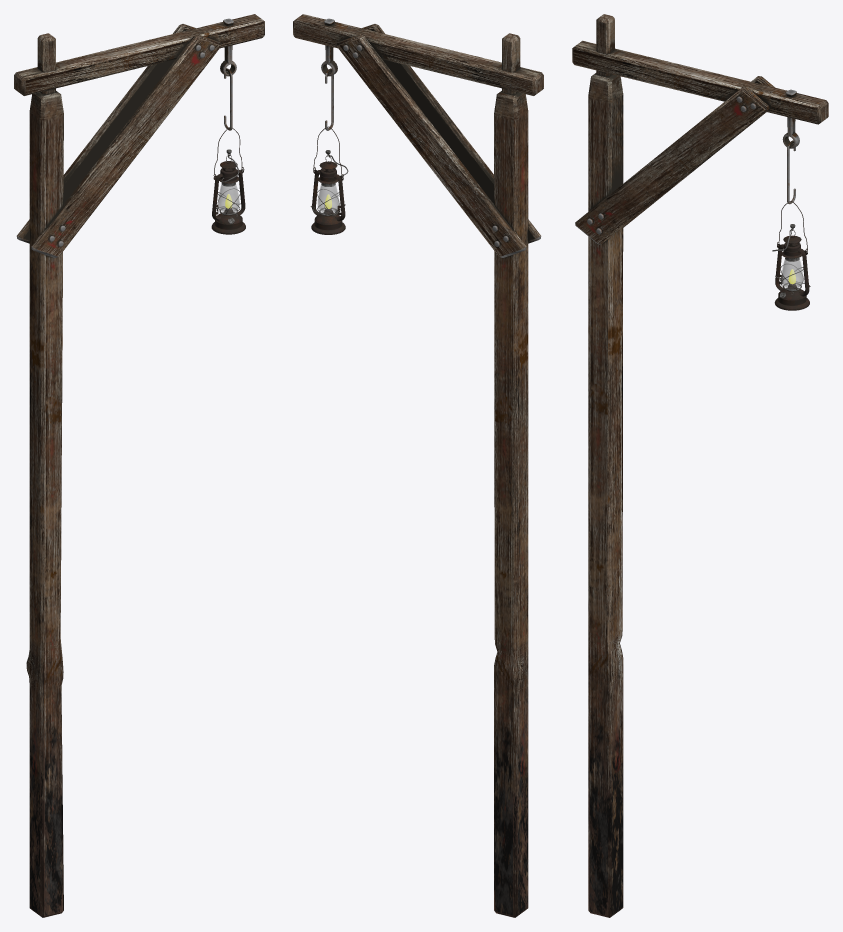
The model's file is lantern_lamppost_lamp_24_mb.glb.
3 views of the same model, side by side, from view 1: azimuth 30°, elevation 25°; view 2: azimuth 150°, elevation 25°; view 3: azimuth 330°, elevation 25° (orthographic). The views are drawn at different scales.
Visible parts, largest first — view 1: Wood, Lantern; view 2: Wood, Lantern; view 3: Wood, Lantern.
Part boxes in pixels (x1,y1,x2,y2): Wood: (14,14,264,917); Lantern: (211,149,245,234); Wood: (293,14,543,917); Lantern: (310,150,348,234); Wood: (572,14,828,917); Lantern: (772,224,810,310).
Bounding box in the file's own units: 1.04 × 3.57 × 0.161.
4 materials, 2 textured.
